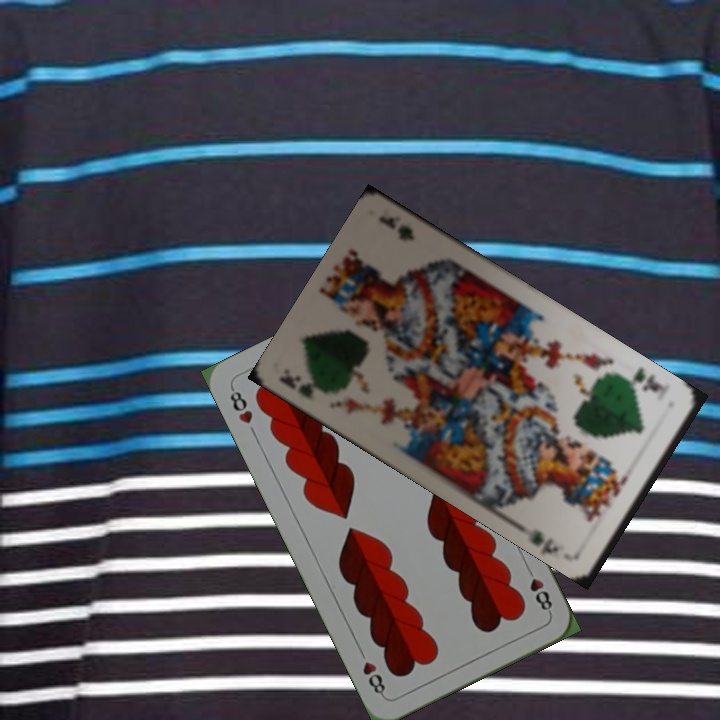GK: (619, 363, 667, 395), (276, 365, 318, 401)
H8: (521, 561, 555, 616), (225, 383, 255, 427)
